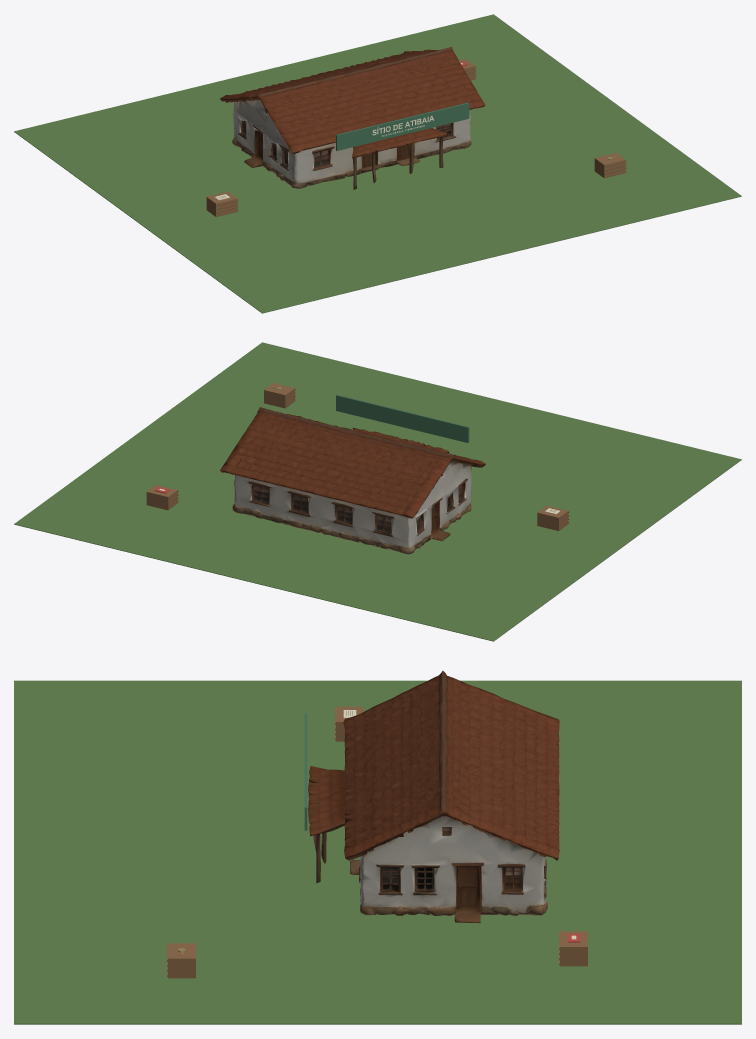
File: secret-country-house.glb
3 renders of one model, top to bottom at view 1: azimuth 30°, elevation 25°; view 2: azimuth 150°, elevation 25°; view 3: azimuth 270°, elevation 25°, orthographic. The views are drawn at different scales.
Visible parts, largest first — view 1: Country_Grass_Yard, tripo_node_edb87940-6324-4eaa-8e20-1bd05485bdc0, Sitio_Plate, Search_Crate.002, Search_Crate; view 2: Country_Grass_Yard, tripo_node_edb87940-6324-4eaa-8e20-1bd05485bdc0, Sitio_Plate, Search_Crate.002, Search_Crate, Search_Crate.001; view 3: Country_Grass_Yard, tripo_node_edb87940-6324-4eaa-8e20-1bd05485bdc0, Search_Crate.002, Search_Crate.001.
Boxes of the visible parts, x1,y1,x2,y2 form: Country_Grass_Yard: (14, 14, 741, 313); tripo_node_edb87940-6324-4eaa-8e20-1bd05485bdc0: (220, 47, 485, 189); Sitio_Plate: (336, 102, 469, 150); Search_Crate.002: (594, 153, 625, 178); Search_Crate: (206, 191, 237, 216); Country_Grass_Yard: (14, 342, 741, 641); tripo_node_edb87940-6324-4eaa-8e20-1bd05485bdc0: (220, 407, 485, 554); Sitio_Plate: (336, 394, 469, 442); Search_Crate.002: (264, 383, 294, 408); Search_Crate: (537, 505, 568, 530); Search_Crate.001: (146, 485, 177, 510); Country_Grass_Yard: (14, 680, 741, 1024); tripo_node_edb87940-6324-4eaa-8e20-1bd05485bdc0: (308, 670, 559, 923); Search_Crate.002: (168, 943, 195, 978); Search_Crate.001: (560, 931, 587, 966).
Bounding box in the file's own units: 29 × 4.5 × 26.
9 materials, 1 textured.
